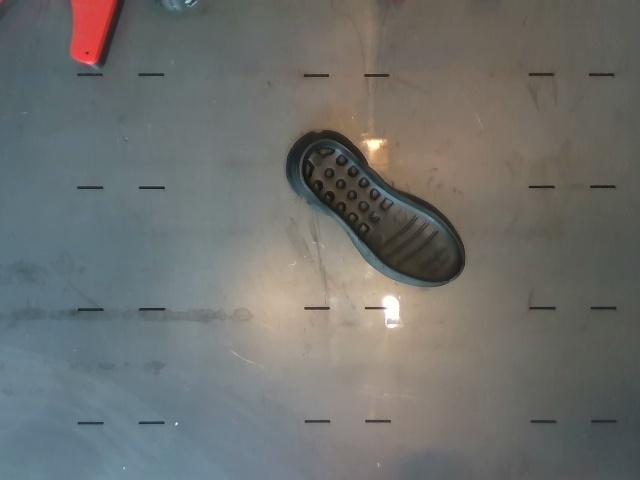shoes: (300, 140, 463, 281)
